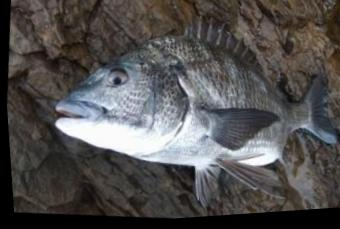fish: (53, 20, 336, 211)
